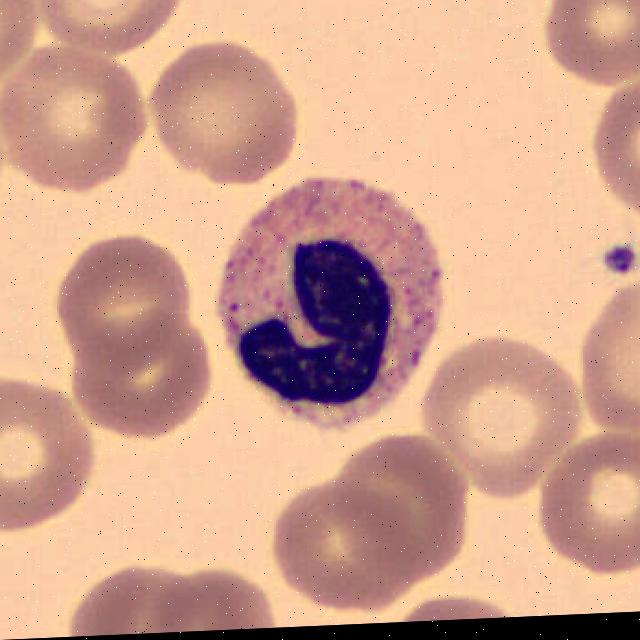neutrophil: (222, 161, 448, 440)
rbc: (431, 349, 589, 507), (155, 25, 299, 191), (65, 294, 222, 439), (257, 478, 413, 618), (1, 50, 143, 203), (340, 439, 469, 583), (68, 226, 188, 378), (537, 412, 640, 589), (0, 380, 86, 563), (563, 279, 640, 454), (138, 538, 278, 634), (66, 556, 214, 637), (41, 0, 204, 62), (537, 0, 640, 95), (581, 78, 640, 228), (357, 596, 533, 624)
